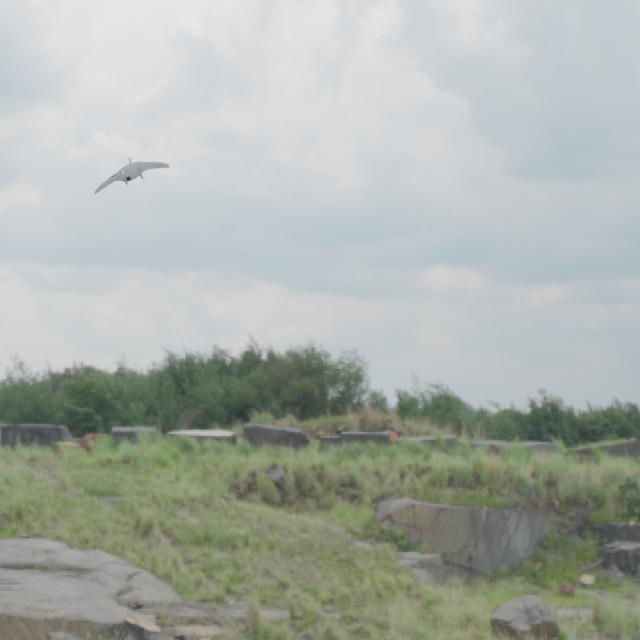Airaplan: (95, 156, 170, 195)
